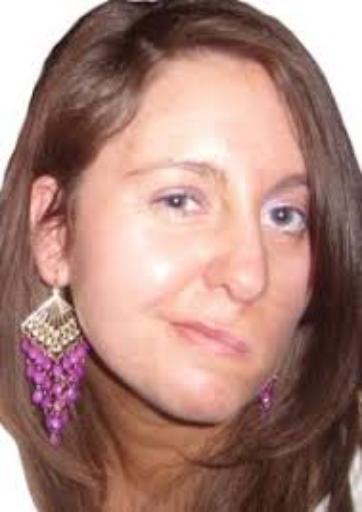left_eye: (261, 204, 307, 235)
left_lip_corner: (234, 337, 256, 362)
right_eye: (146, 190, 213, 220)
right_lip_corner: (157, 314, 190, 337)
